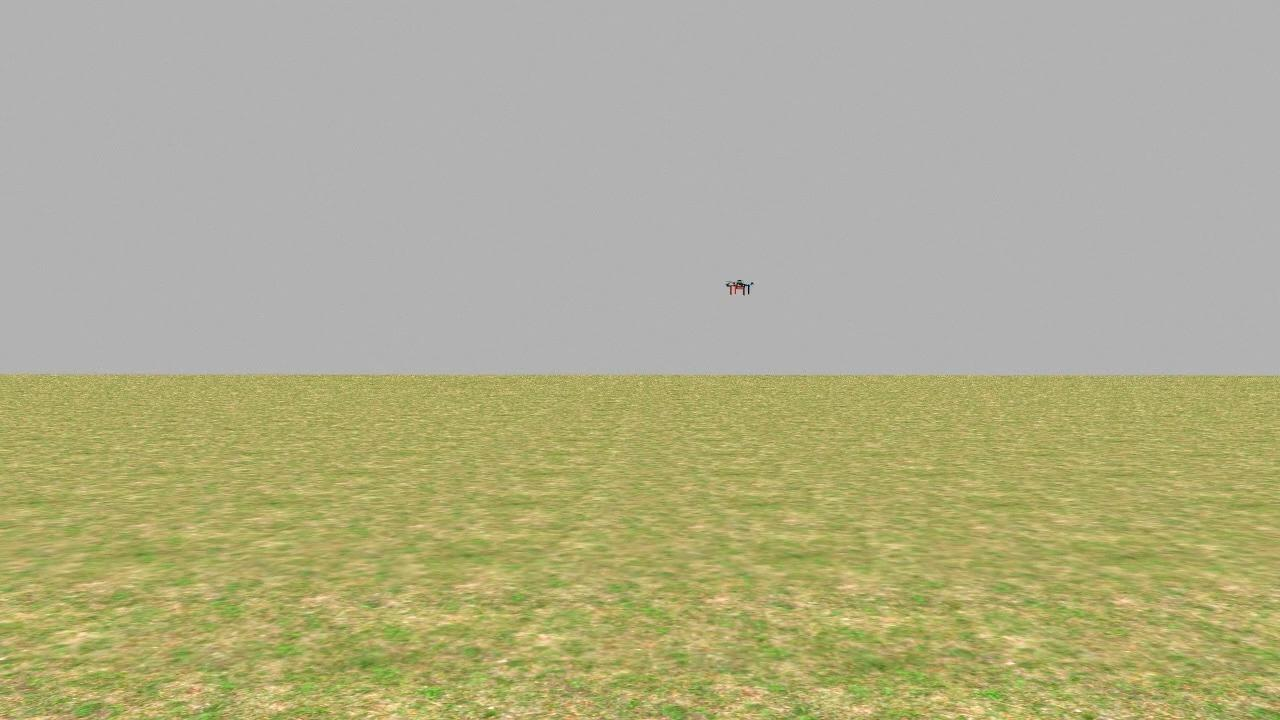UAV: (719, 269, 762, 307)
